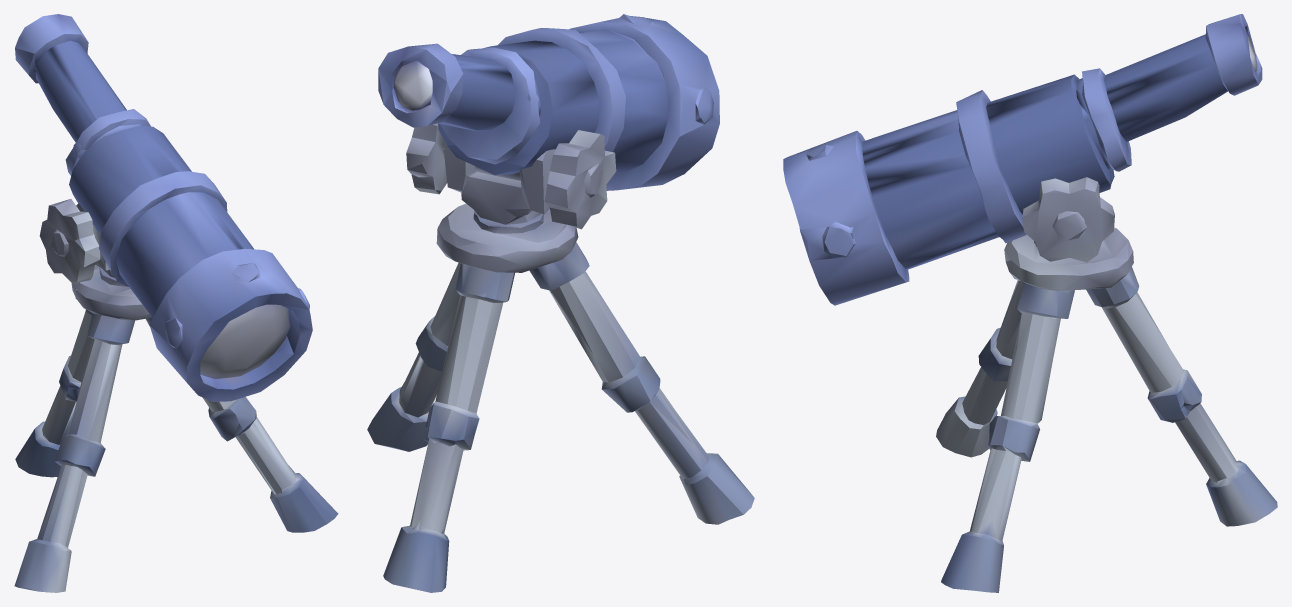
Rendered from Telescope01.fbx.
3 views of the same model, side by side, from view 1: azimuth 30°, elevation 25°; view 2: azimuth 150°, elevation 25°; view 3: azimuth 270°, elevation 25° (orthographic). The views are drawn at different scales.
Visible parts, largest first — view 1: TelescopeBody01, TelescopeStand01; view 2: TelescopeStand01, TelescopeBody01; view 3: TelescopeBody01, TelescopeStand01.
Part boxes in pixels (bbox=[...]): TelescopeBody01: bbox=[15, 14, 312, 401]; TelescopeStand01: bbox=[14, 199, 338, 592]; TelescopeStand01: bbox=[367, 123, 754, 592]; TelescopeBody01: bbox=[378, 14, 719, 190]; TelescopeBody01: bbox=[783, 14, 1262, 305]; TelescopeStand01: bbox=[936, 177, 1277, 592].
Size of the model in its own units: 91.4 by 126 by 112.
